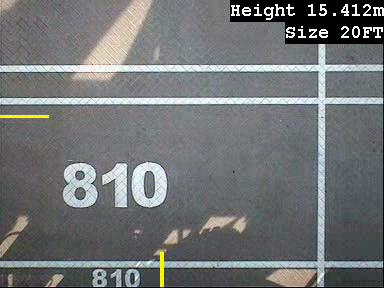groundmarker_2: (197, 165, 248, 223), (198, 1, 231, 31)
